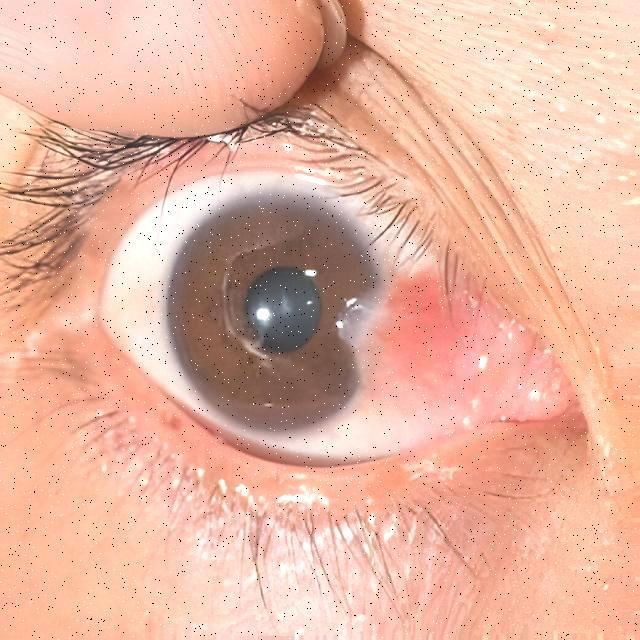Pterygium: (343, 316, 554, 412)
